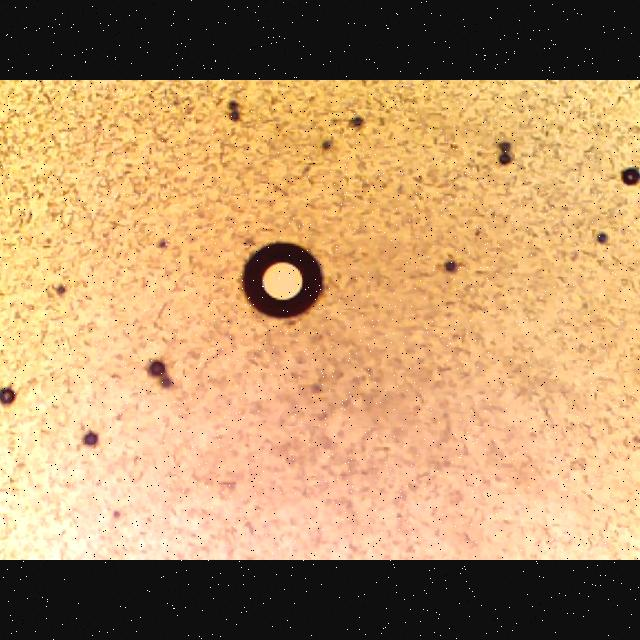microbeads: (236, 240, 326, 318)
